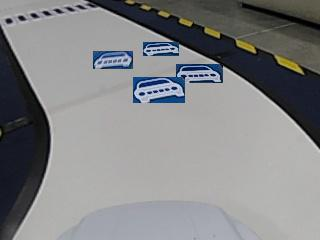crosswalk: (4, 1, 94, 25)
